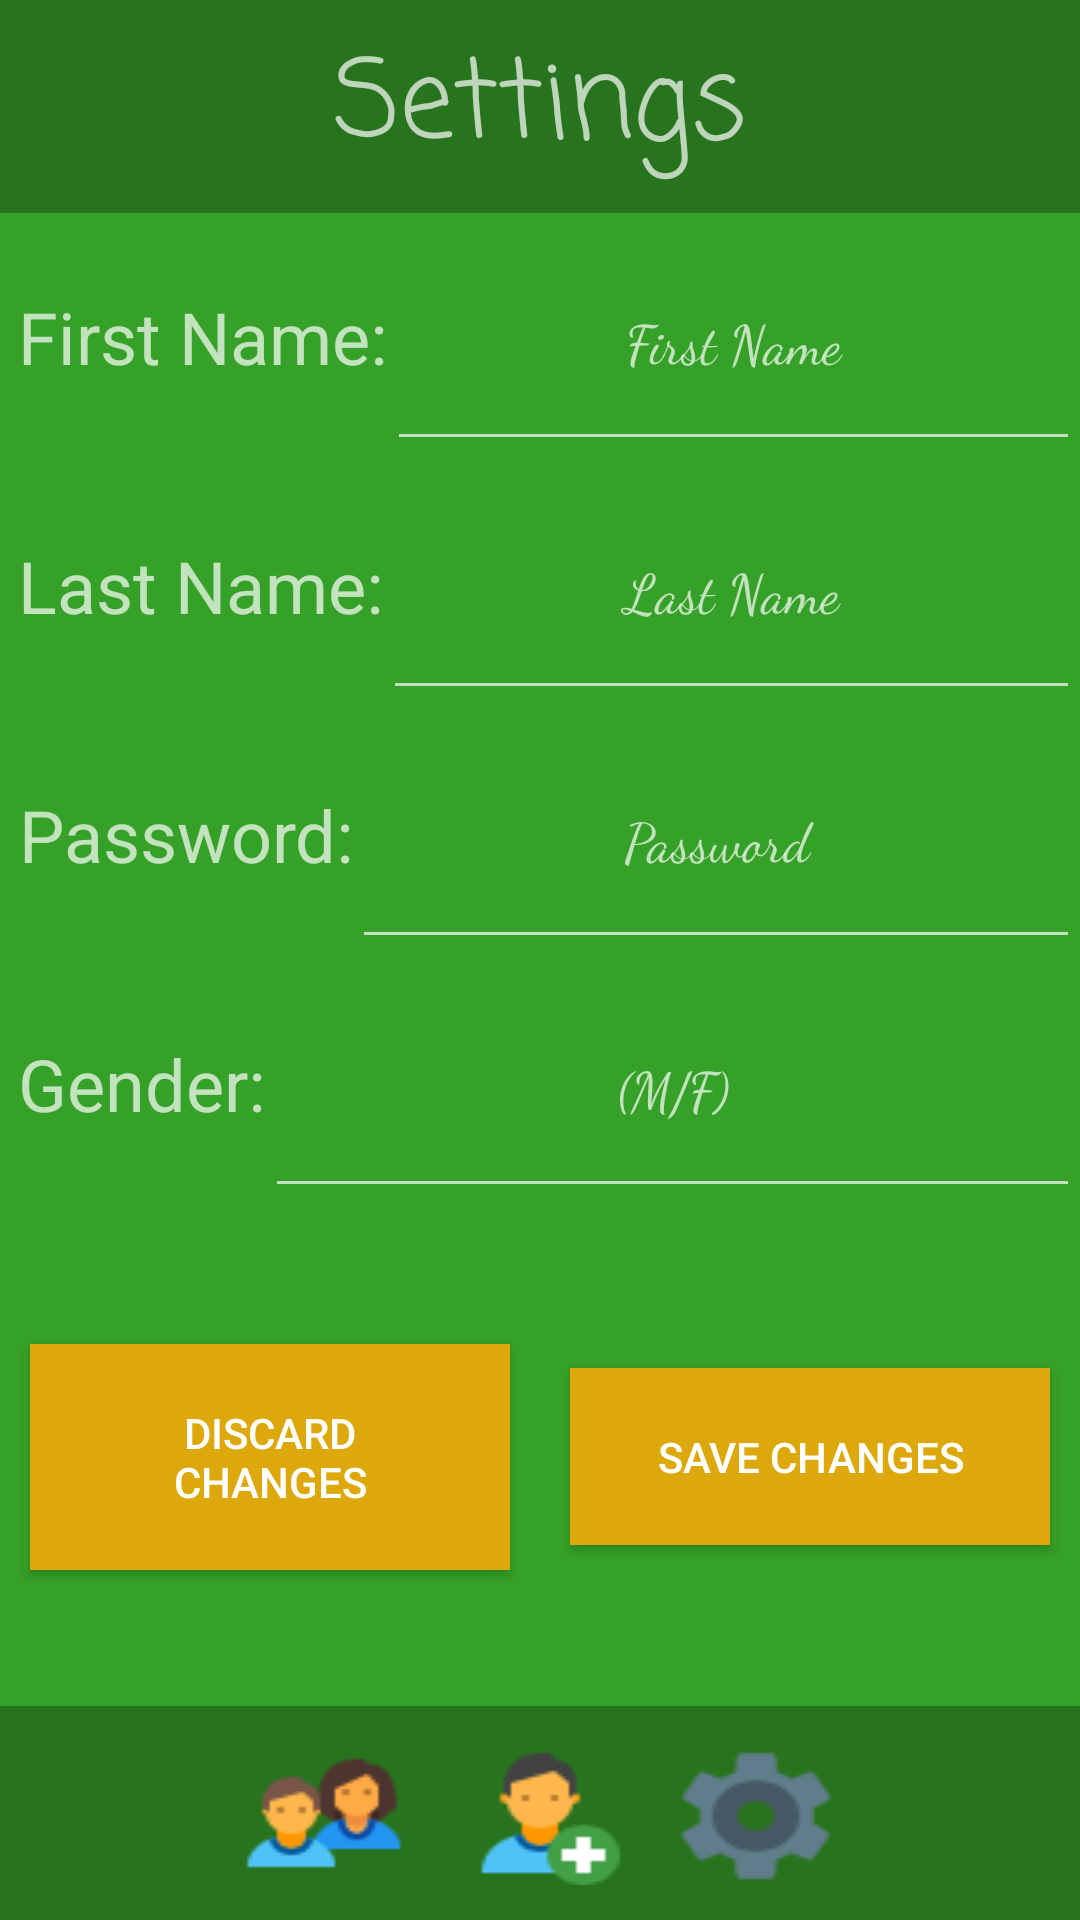

Named icons in this screenshot (1080x1920) and their centers, [x,y]:
add friend: [550,1819]
friends group: [324,1813]
settings: [756,1816]
